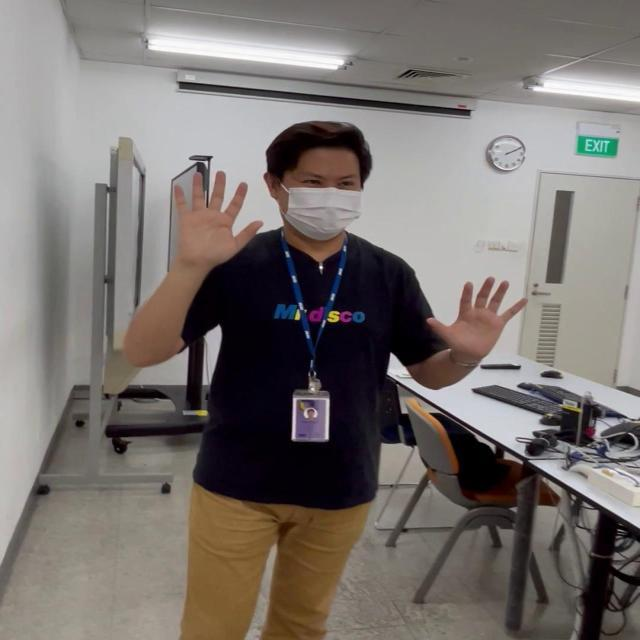bare_hand: (169, 166, 262, 263), (427, 273, 526, 359)
